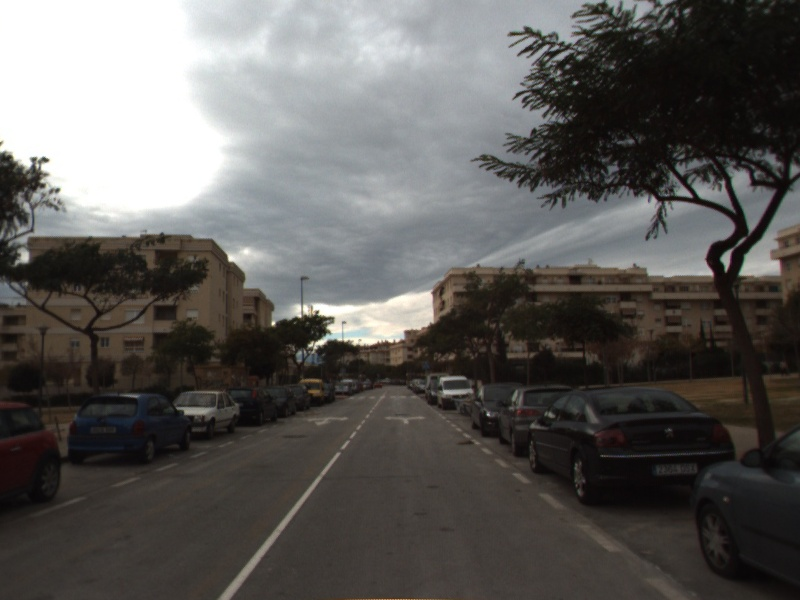LEFT_RIGHT: (383, 413, 428, 426)
